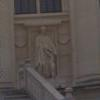Statue: (30, 24, 69, 81)
